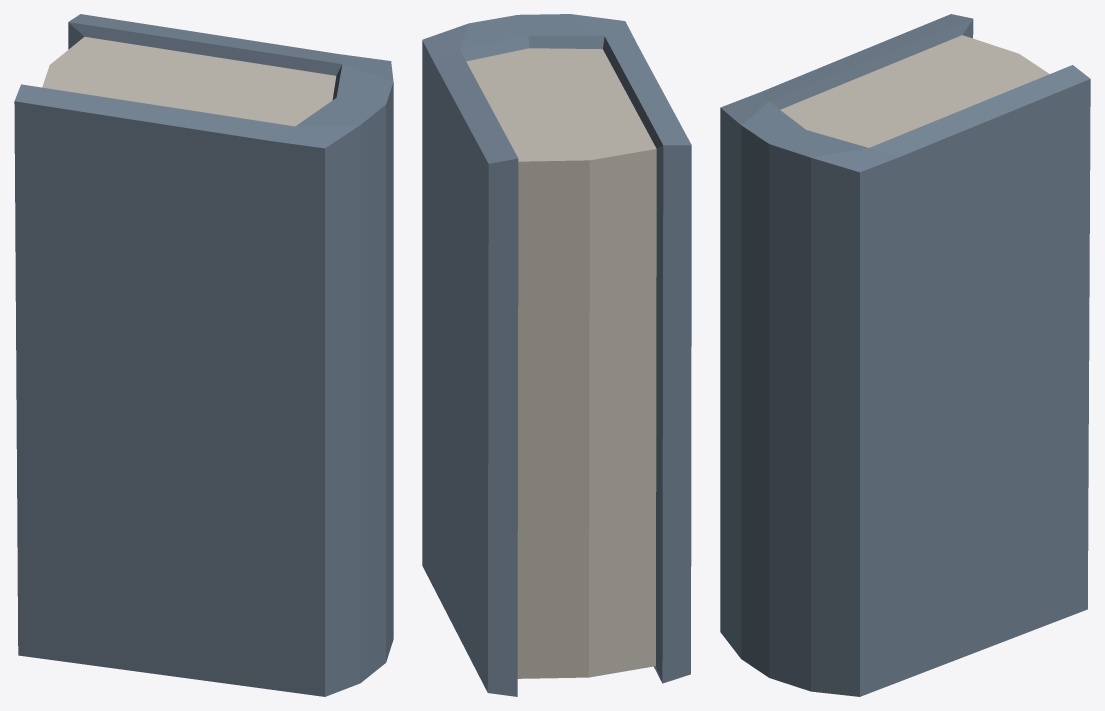
File: book_2.fbx
The picture shows the model from 3 angles, left to right: view 1: azimuth 30°, elevation 25°; view 2: azimuth 150°, elevation 25°; view 3: azimuth 270°, elevation 25°; orthographic projection. The views are drawn at different scales.
Parts seen in each view (by area): view 1: book2; view 2: book2; view 3: book2.
Boxes of the visible parts, bbox=[...] form: book2: bbox=[14, 14, 393, 696]; book2: bbox=[422, 14, 691, 696]; book2: bbox=[720, 14, 1090, 696].
Size of the model in its own units: 0.3216 by 0.5263 by 0.3278.
